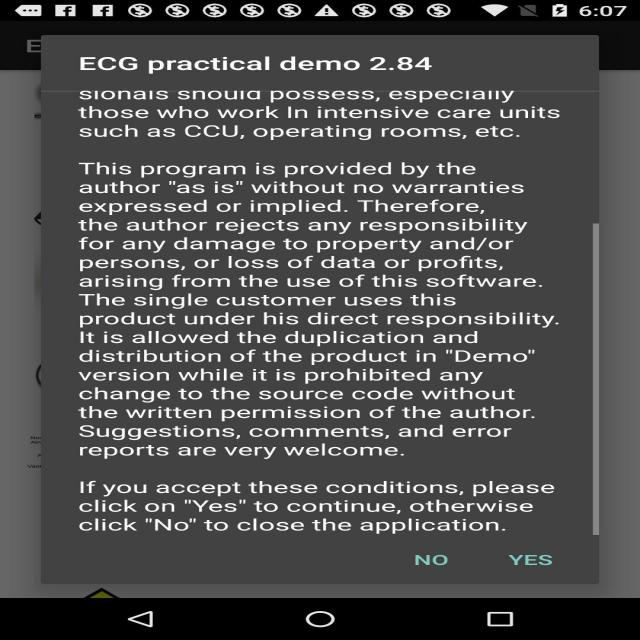icon: (6, 4, 628, 20), (291, 604, 367, 636), (99, 601, 178, 631), (469, 605, 549, 633)
text: (42, 37, 589, 577)
